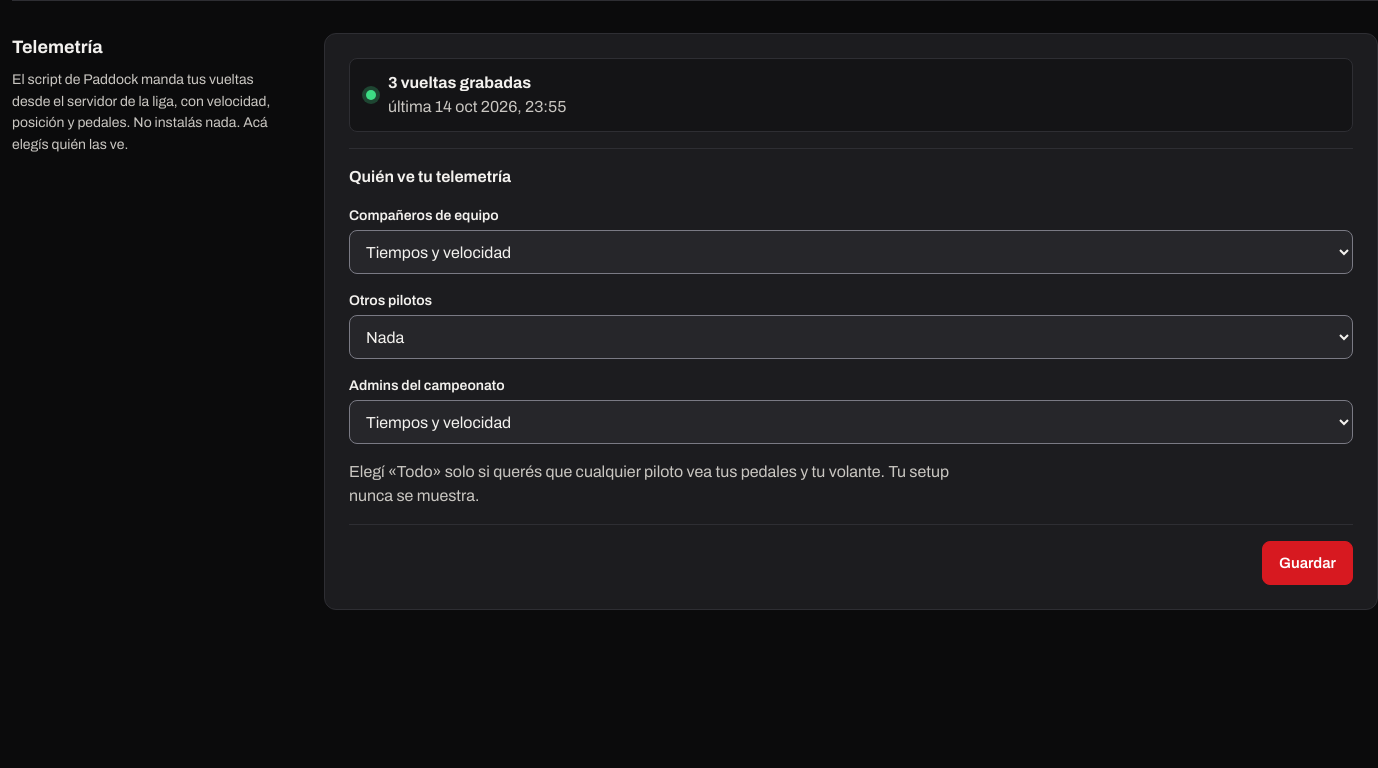
TelemetryCard › shows the laps and saves who sees the telemetry
This screenshot has width=1378, height=768.
Expected: the text "3 vueltas grabadas" is shown, [388,74,531,91]
Select "Todo, con pedales y volante" in the dropdown labelled "Compañeros de equipo". click: [851, 252]
box: [349,230,1353,274]
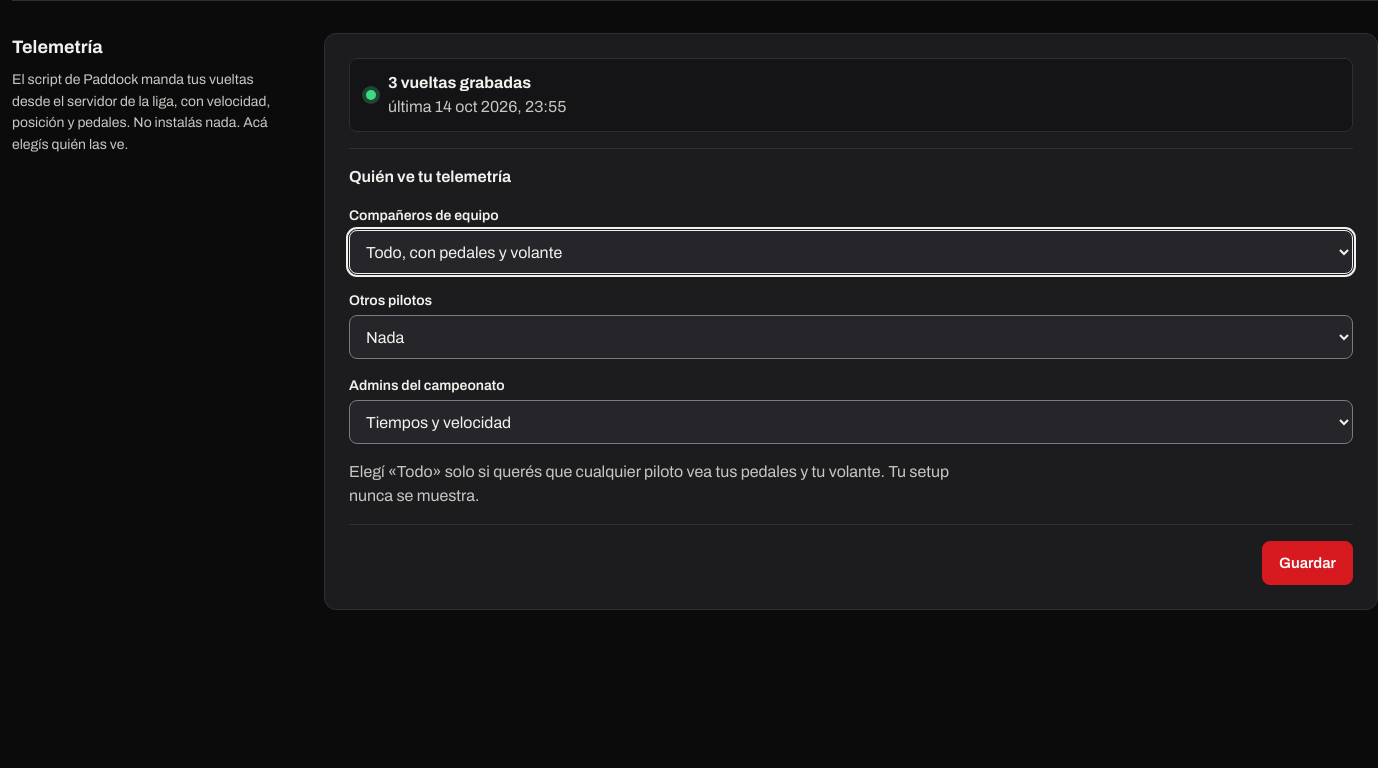
Select "Tiempos y velocidad" in the dropdown labelled "Otros pilotos". click: [851, 337]
box: [349,315,1353,359]
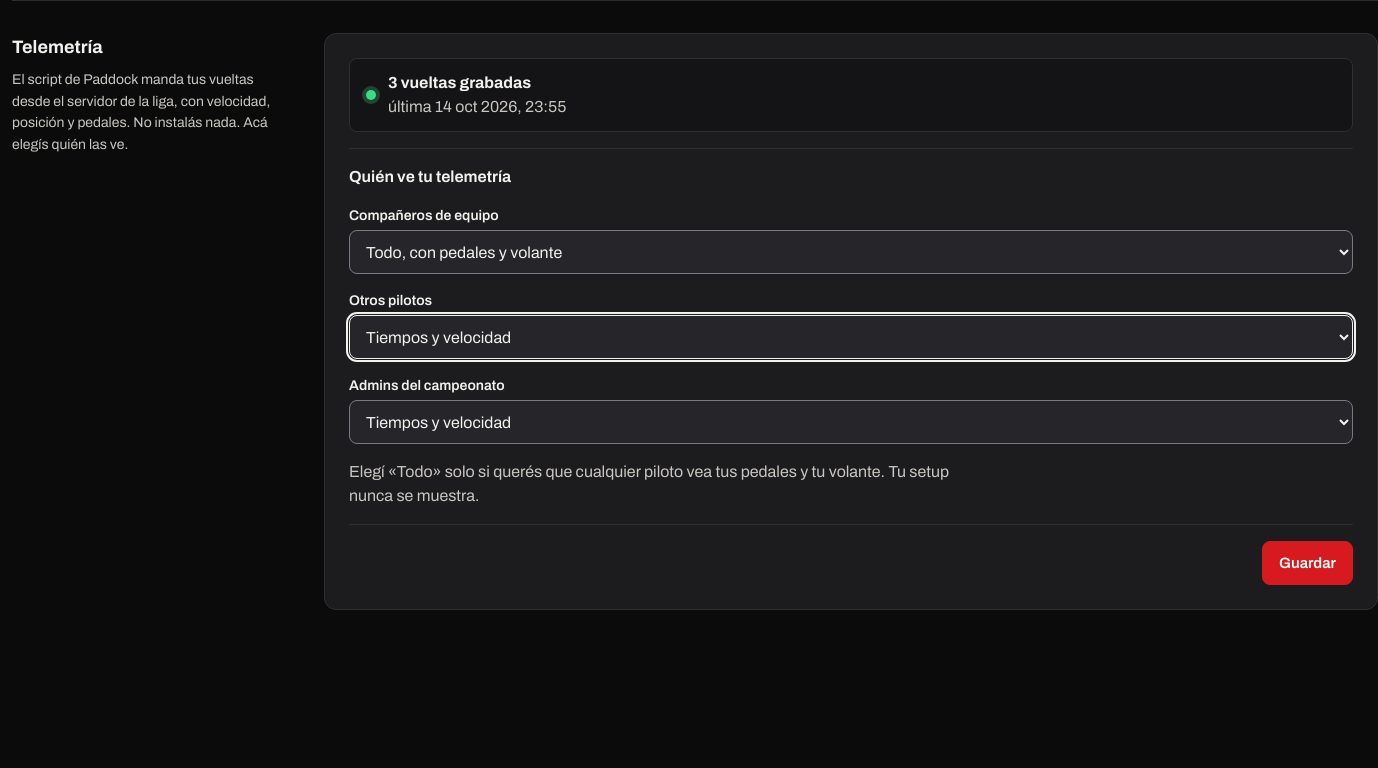
Click the button "Guardar". click: [1308, 563]
box: [1262,541,1353,585]
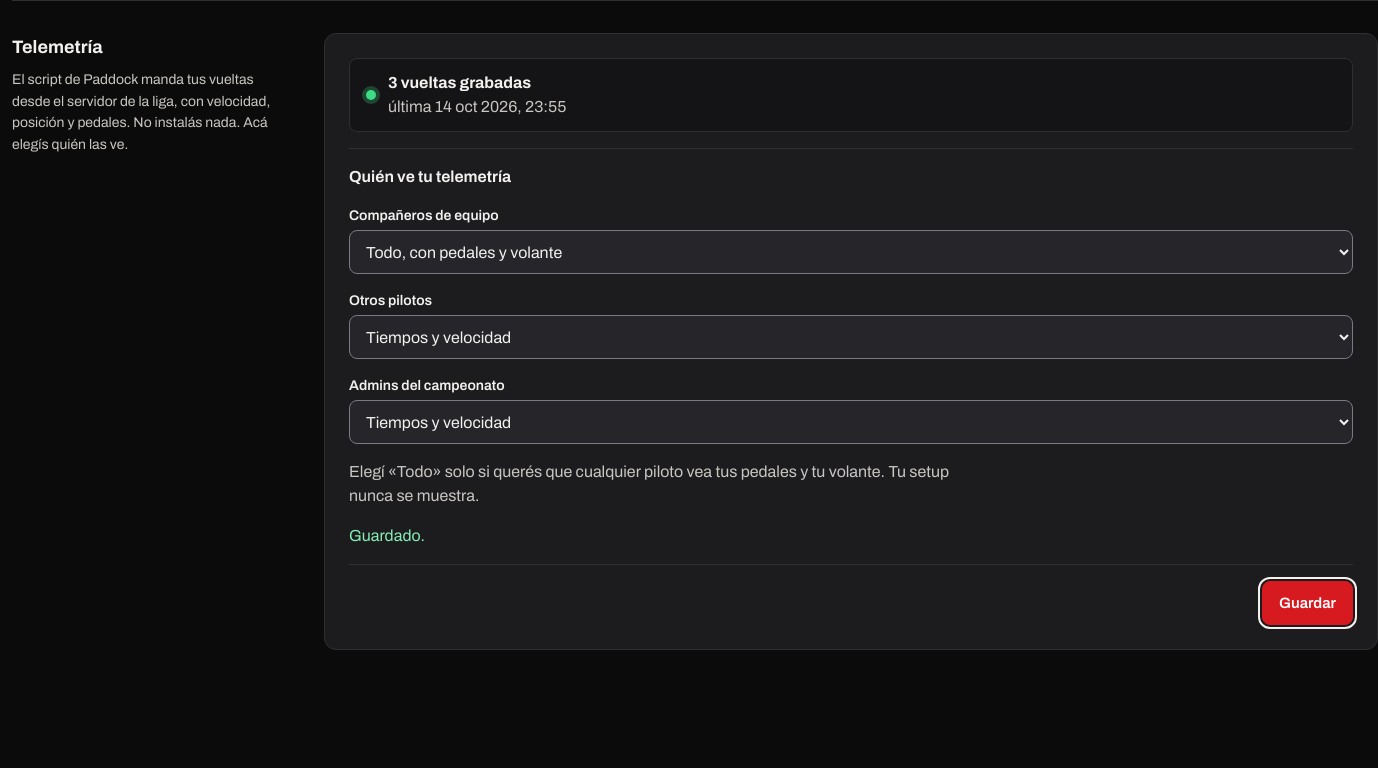
Expected: the text "Guardado." is shown, [349,527,425,544]
